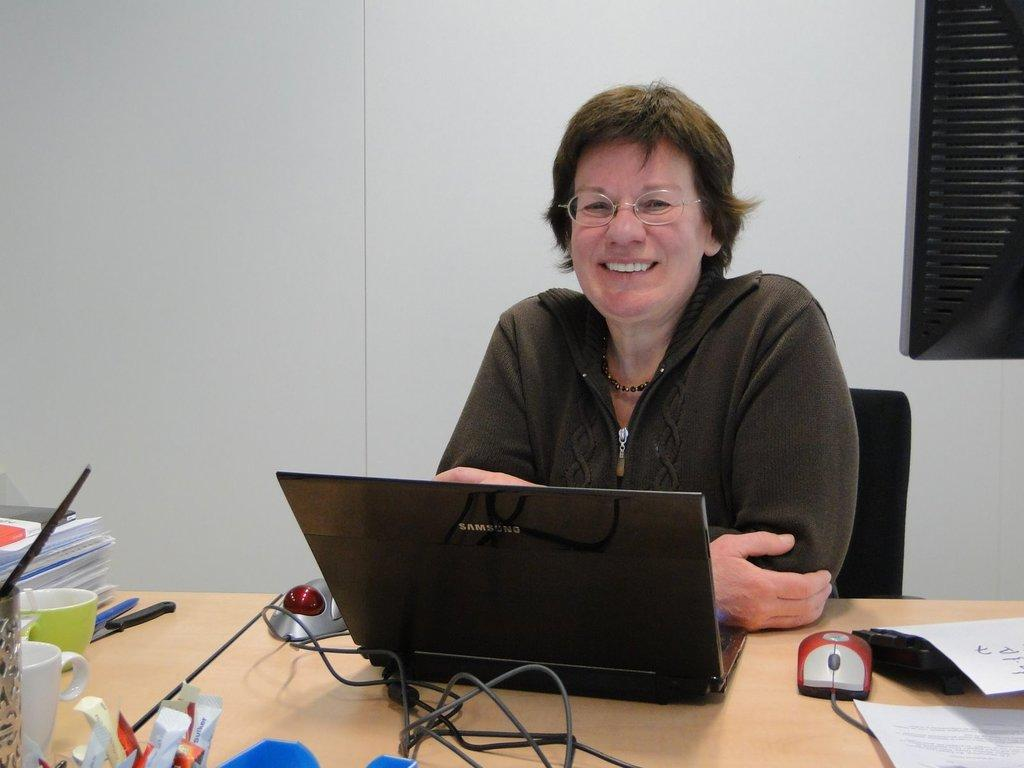Computer-mouse: (267, 576, 349, 644), (797, 627, 875, 698)
Laptop: (275, 481, 746, 724)
